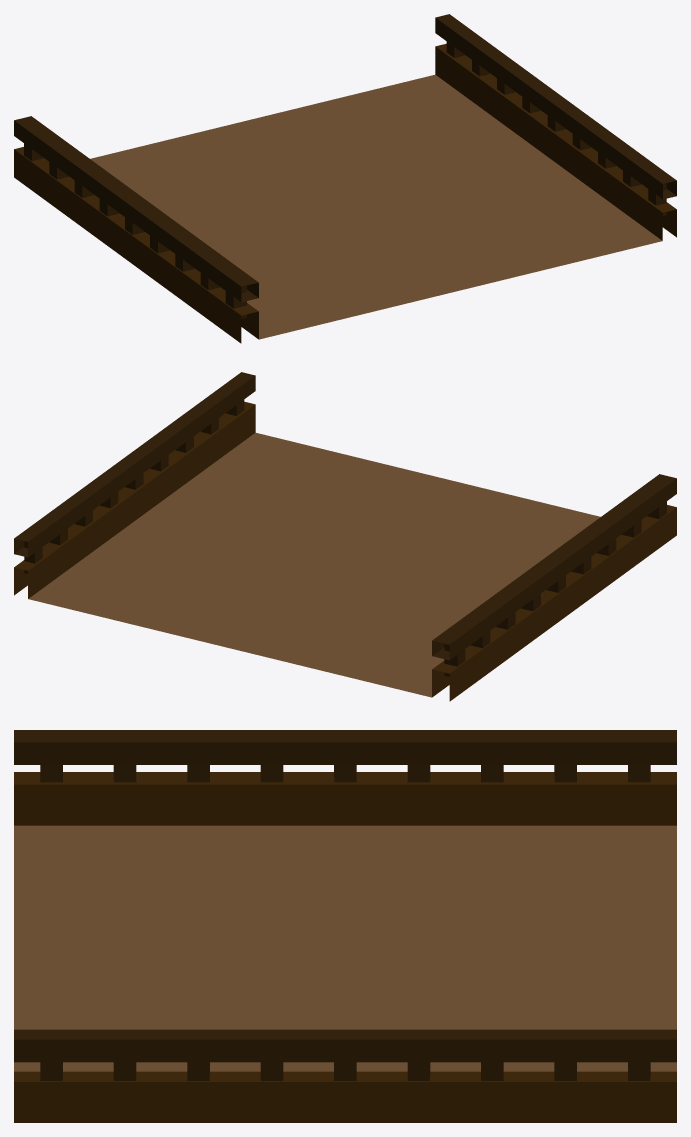
The model's file is Ship_Middle 1.fbx.
The picture shows the model from 3 angles, top to bottom: view 1: azimuth 30°, elevation 25°; view 2: azimuth 150°, elevation 25°; view 3: azimuth 270°, elevation 25°; orthographic projection. The views are drawn at different scales.
Visible parts, largest first — view 1: pCube65; view 2: pCube65; view 3: pCube65.
Part boxes in pixels (<box>): pCube65: <box>14,14,676,343</box>; pCube65: <box>14,372,676,701</box>; pCube65: <box>14,730,676,1122</box>.
Size of the model in its own units: 10.87 by 1.36 by 9.83.
